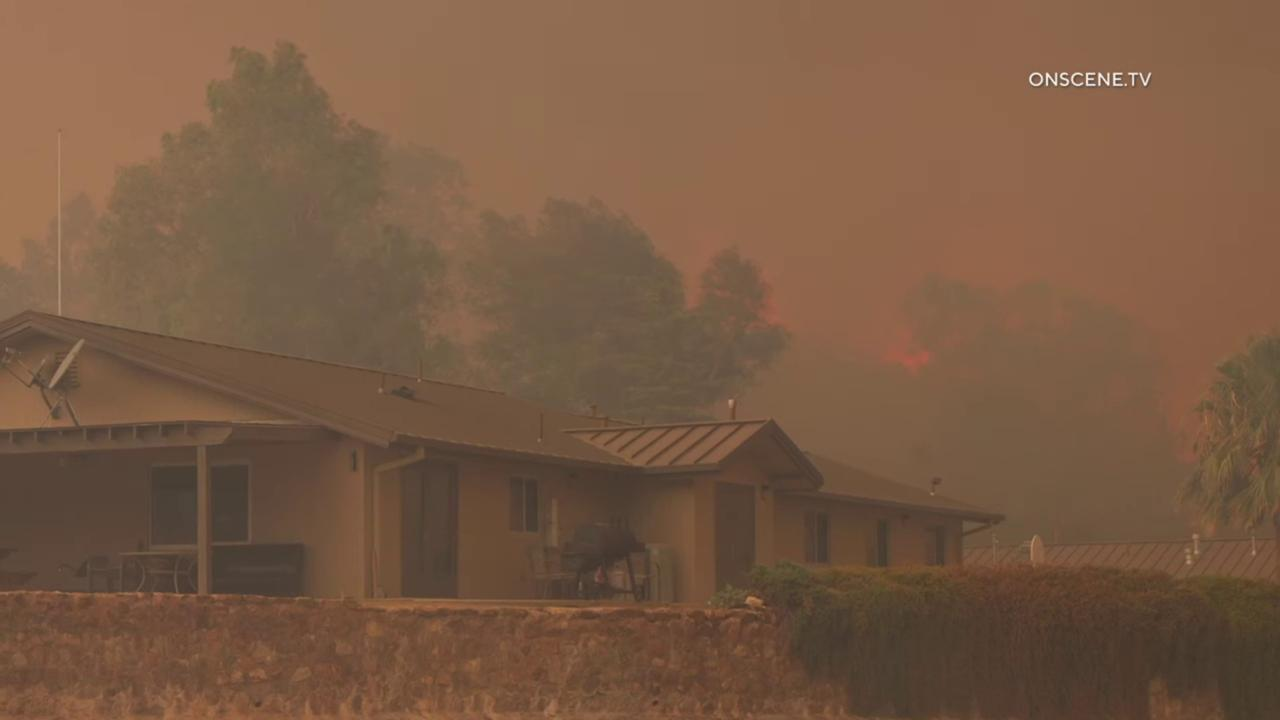fire: (870, 326, 935, 381)
smoke: (0, 0, 1280, 547)
